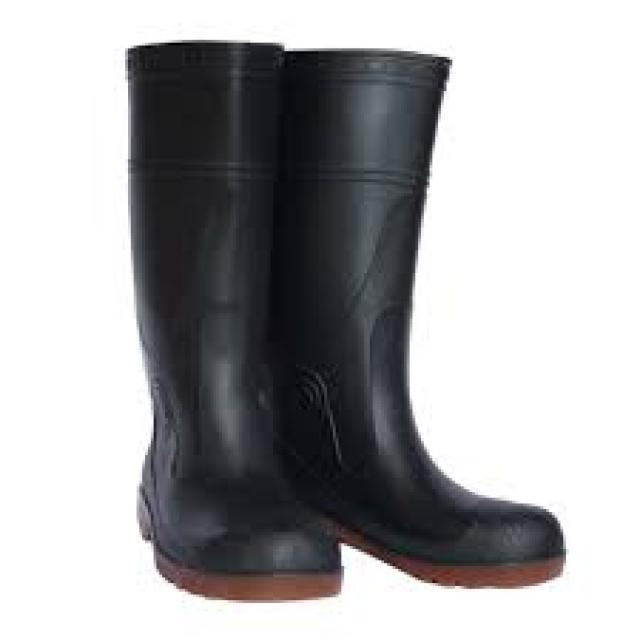shoes: (128, 44, 561, 598)
